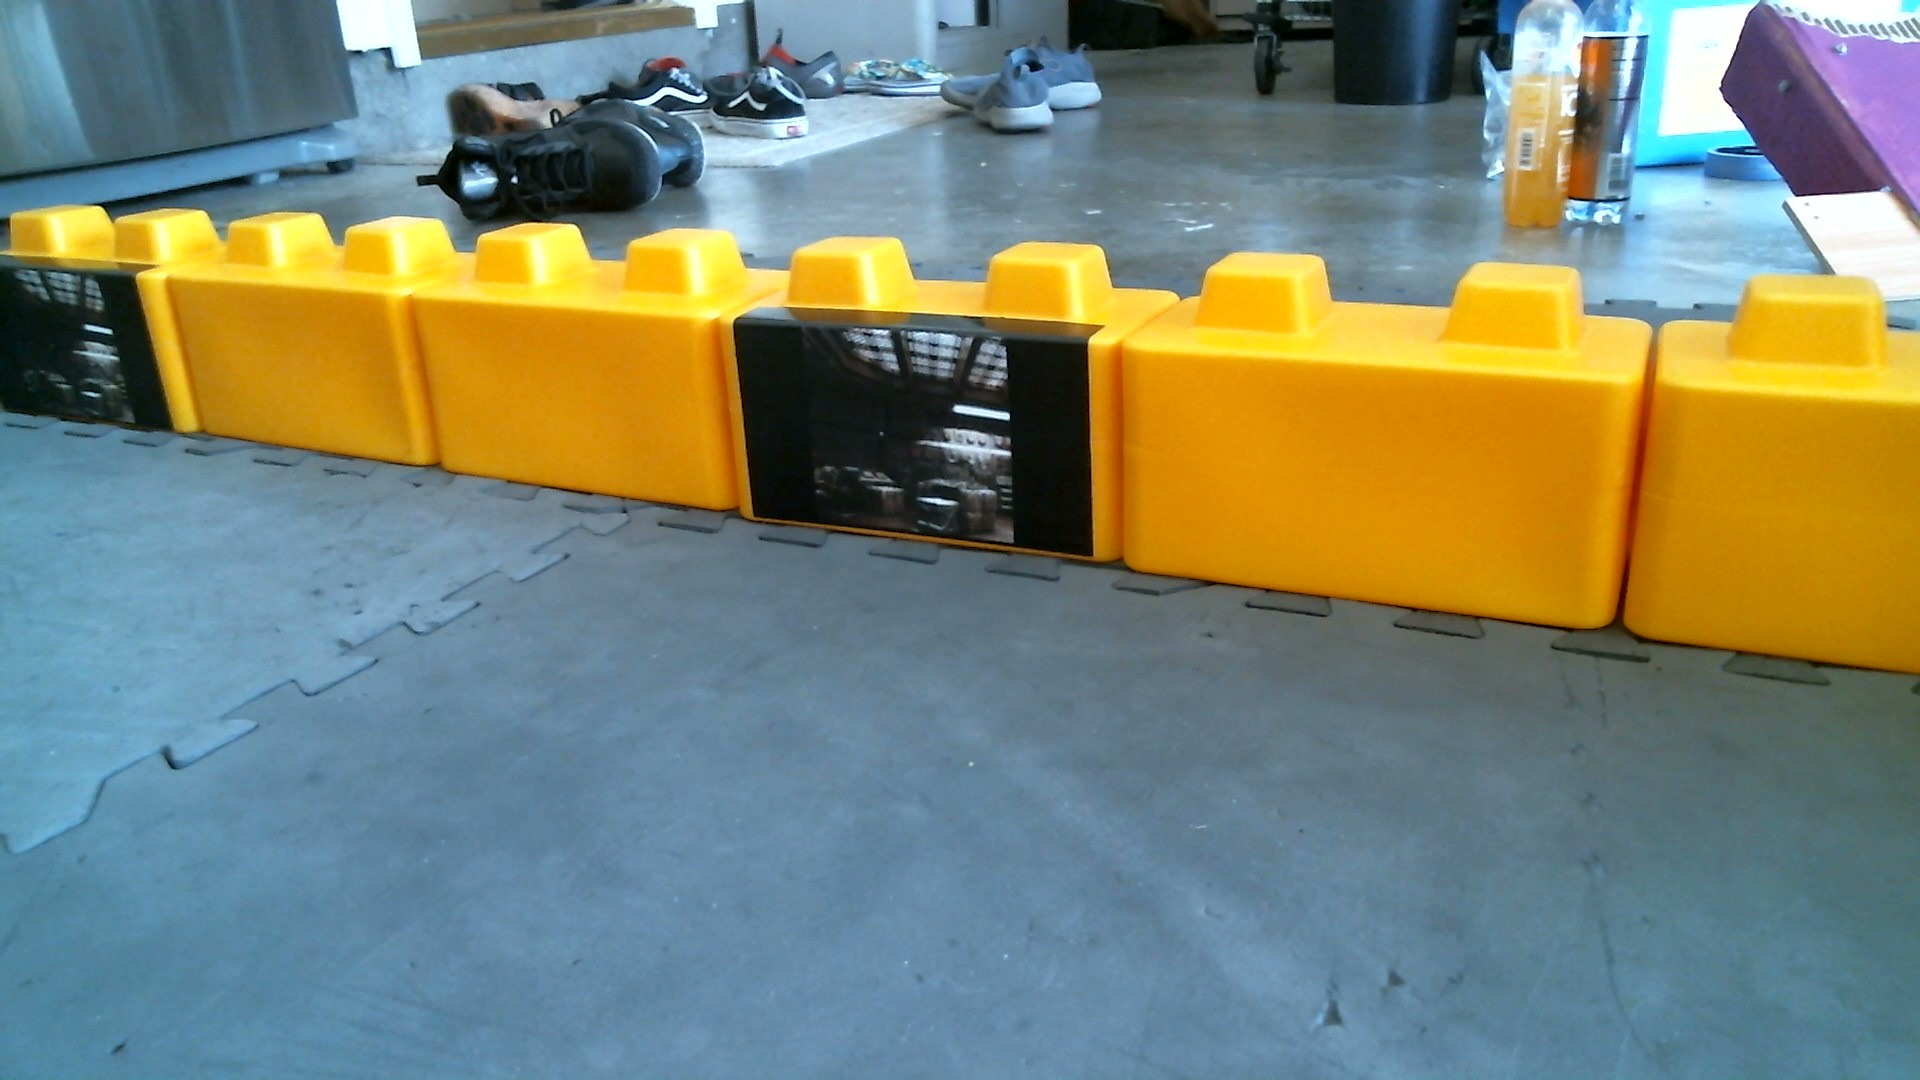skystone: (737, 236, 1156, 582), (1, 200, 200, 446)
stone: (1124, 251, 1659, 658), (1655, 276, 1920, 676), (438, 218, 752, 538), (193, 208, 452, 487)
